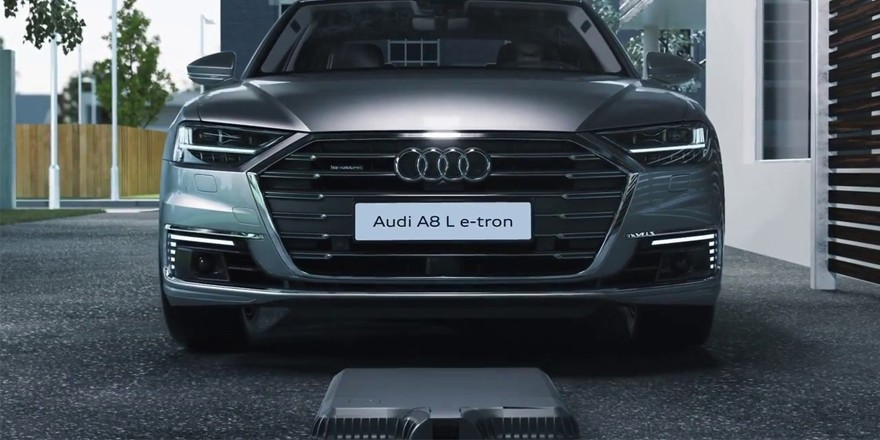audi: (388, 143, 496, 198)
